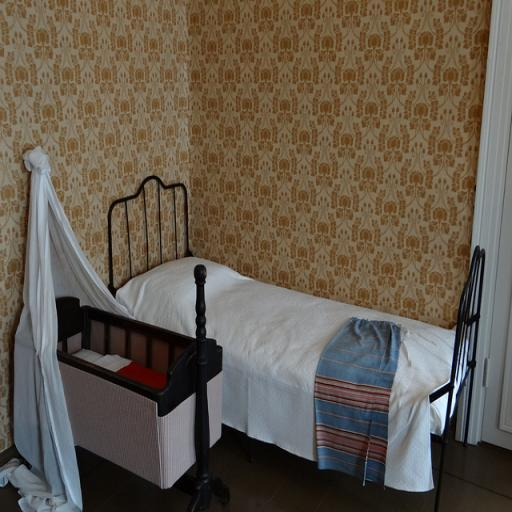bed: (98, 146, 512, 492)
